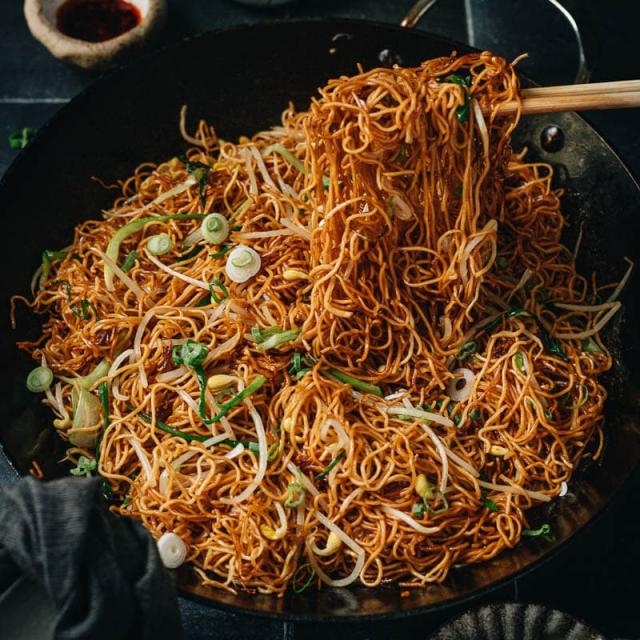noodle: (41, 48, 619, 608)
